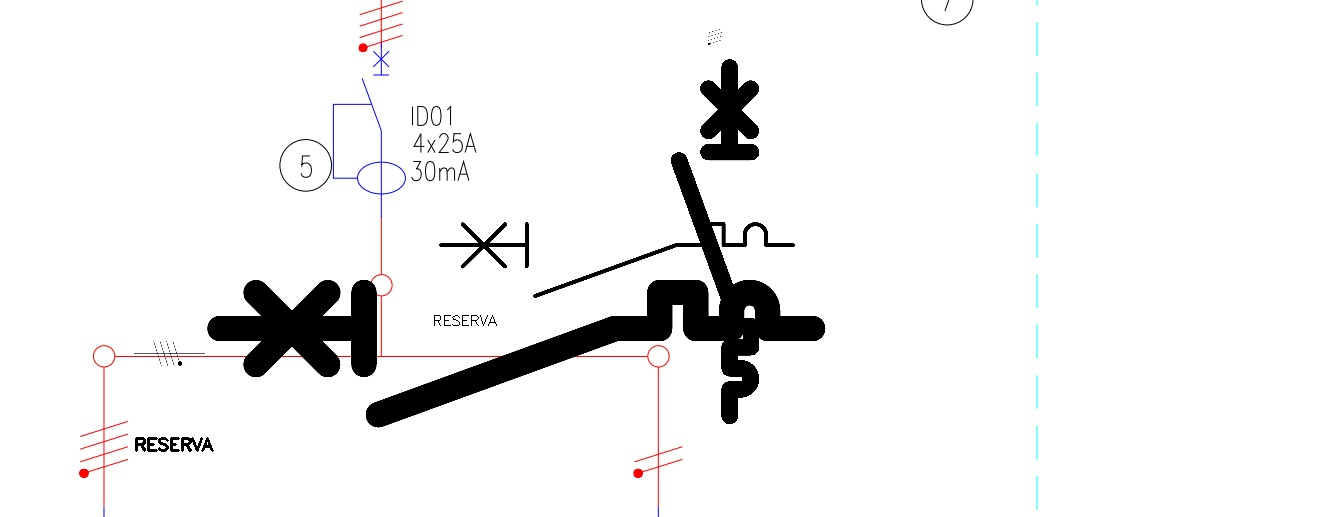interruptor_termomagnetico: (204, 277, 827, 429), (432, 215, 802, 305), (670, 58, 760, 425)
